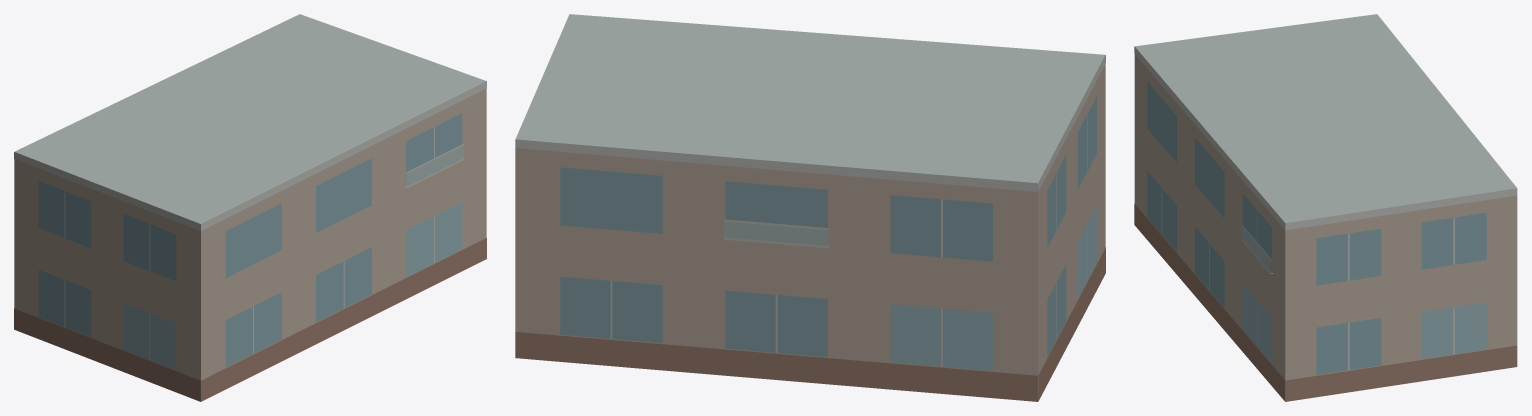
File: survey-upis-32787304.glb
3 views of the same model, side by side, from view 1: azimuth 30°, elevation 25°; view 2: azimuth 150°, elevation 25°; view 3: azimuth 270°, elevation 25° (orthographic). The views are drawn at different scales.
Parts seen in each view (by area): view 1: survey-upis-32787304.tmp; view 2: survey-upis-32787304.tmp; view 3: survey-upis-32787304.tmp.
Boxes of the visible parts, x1=… form: survey-upis-32787304.tmp: x1=14, y1=14, x2=486, y2=401; survey-upis-32787304.tmp: x1=515, y1=14, x2=1105, y2=401; survey-upis-32787304.tmp: x1=1134, y1=14, x2=1517, y2=401.
Size of the model in its own units: 15.34 by 6.1 by 11.86.
